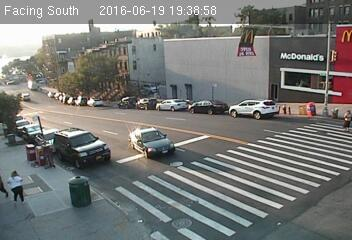neg: (141, 77, 166, 110), (38, 140, 58, 166), (60, 102, 78, 126)
pos: (338, 102, 351, 132)
